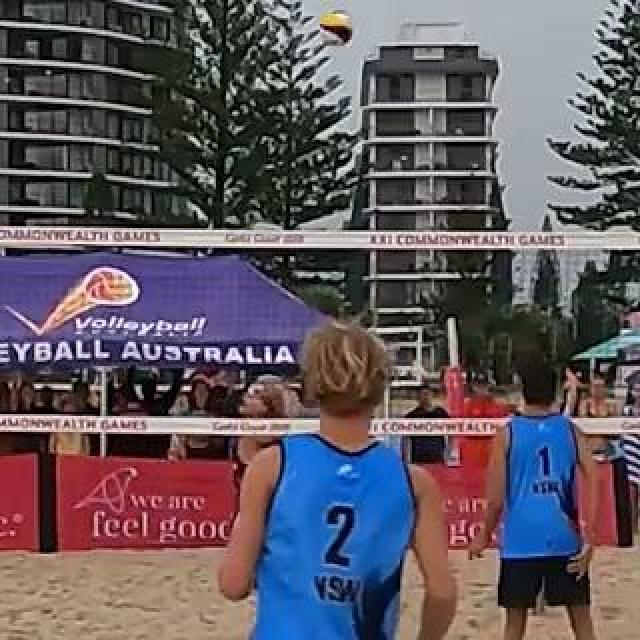volleyball: (319, 13, 353, 47)
